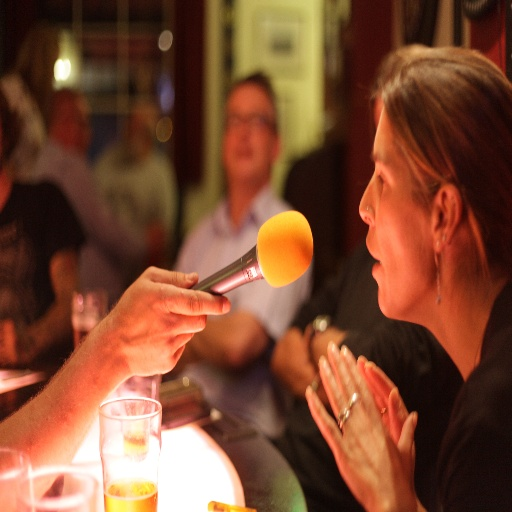hand: (108, 263, 231, 374), (354, 354, 418, 471)
